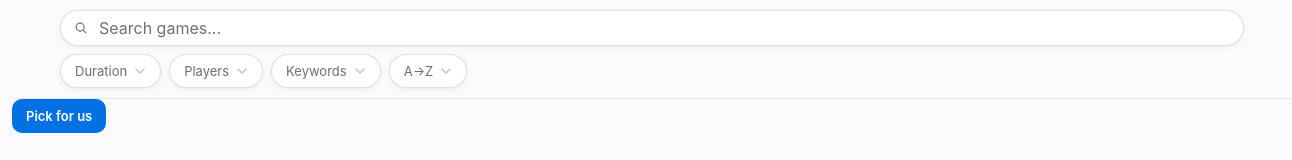
Test case: RandomPicker › is disabled when no games match the active filter
The width and height of the screenshot is (1292, 160).
Type "__no_such_game__" into the field with placeholder "Search games..." at [652, 28], box top-left (60, 10), bottom-right (1244, 46)
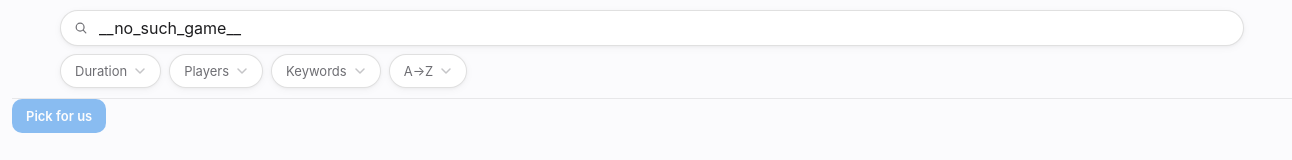
Expected: the button "Pick for us" is disabled, top-left (12, 99), bottom-right (106, 133)
